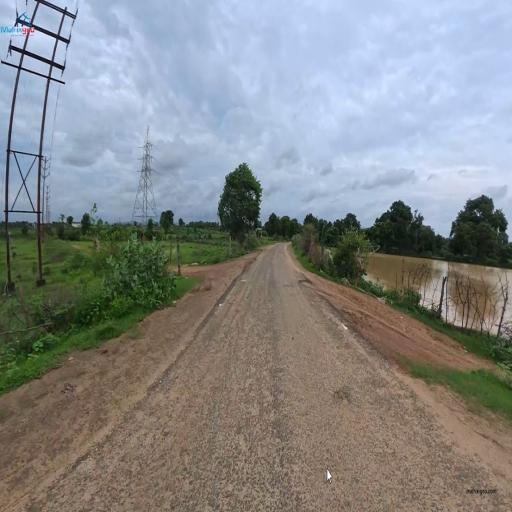ravelling: (191, 374, 354, 463)
